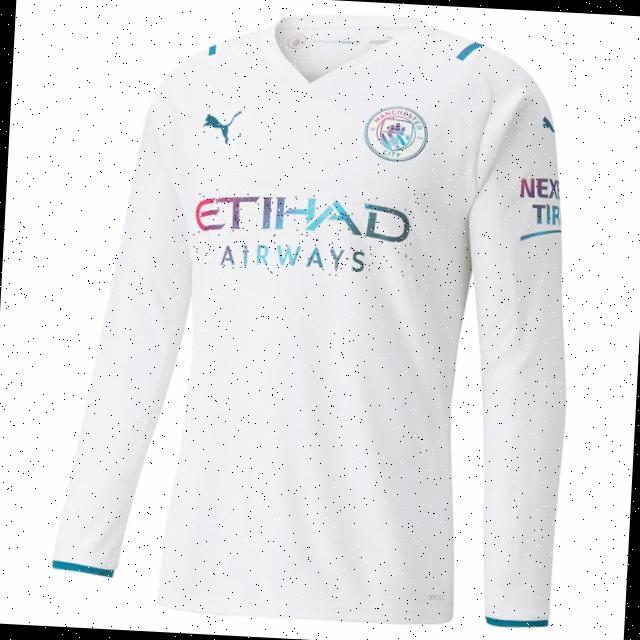Etihad Airways: (191, 187, 417, 281)
Puma: (197, 102, 245, 151)
